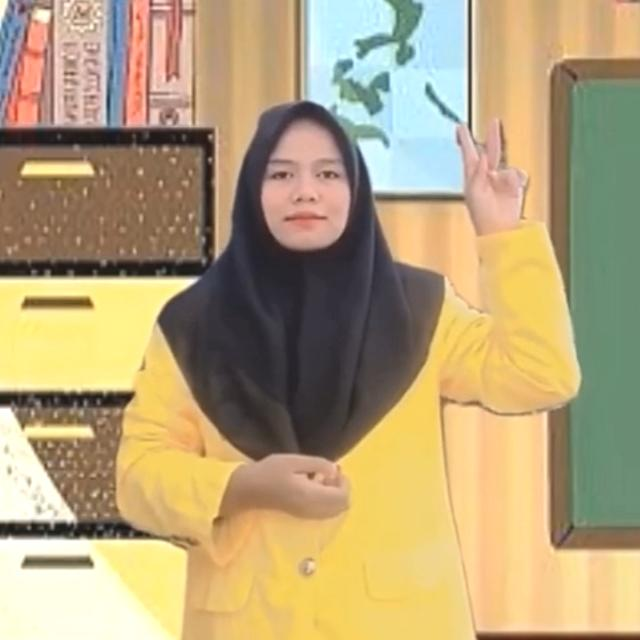K: (452, 112, 530, 232)
